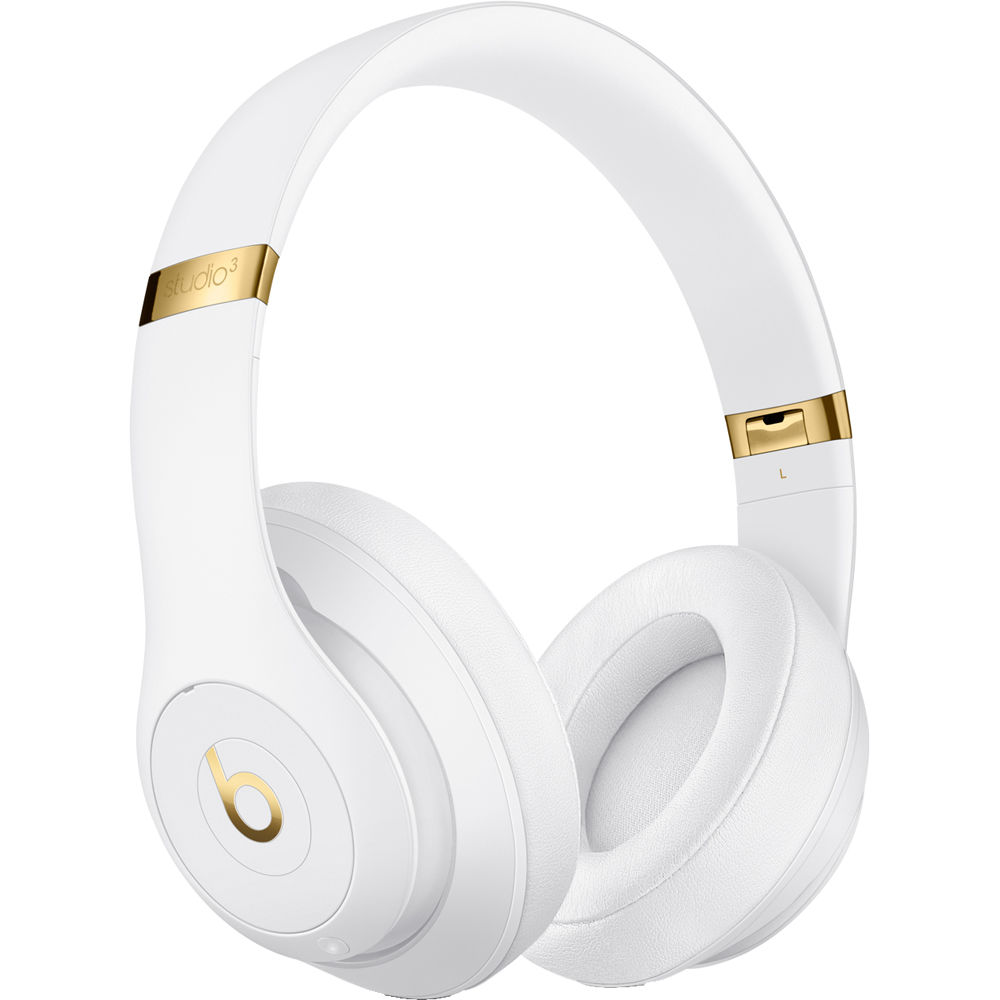Headphone: (97, 4, 889, 1000)
